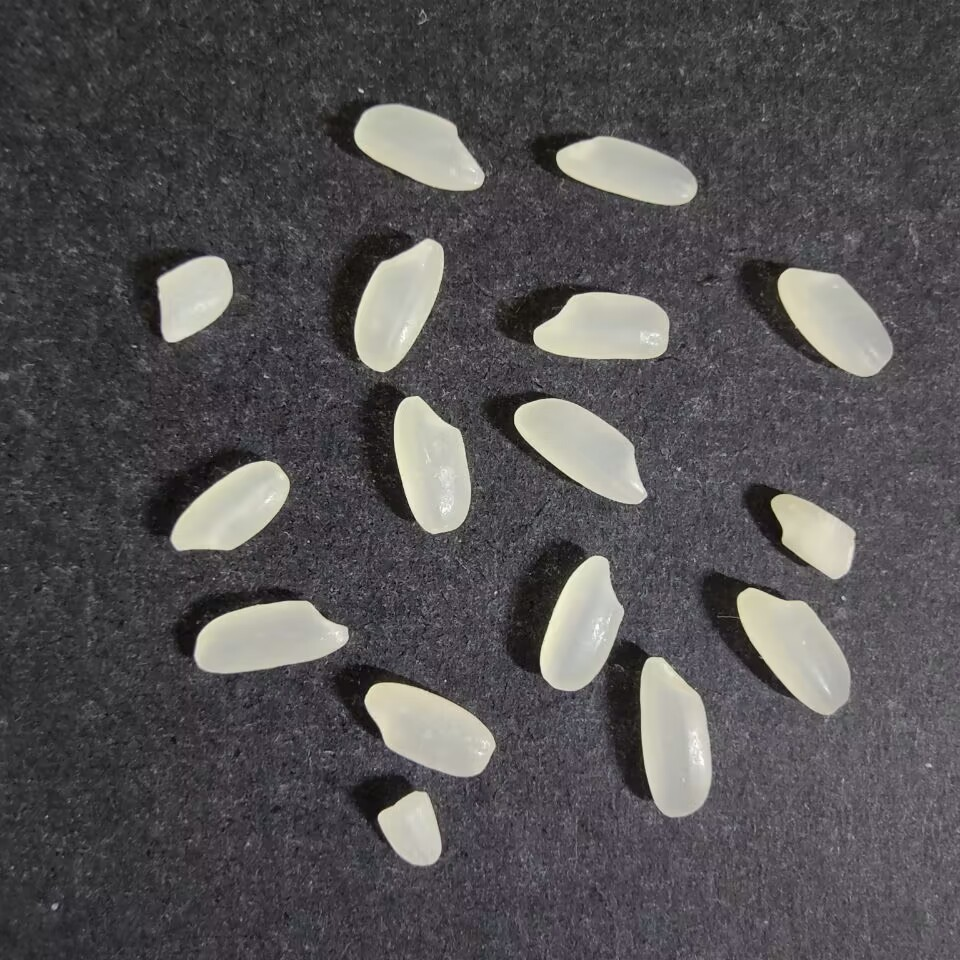broken: (769, 492, 856, 579), (156, 255, 233, 342), (377, 790, 441, 866)
rice: (736, 586, 851, 716), (513, 397, 647, 505), (776, 266, 894, 377), (363, 681, 495, 778), (353, 238, 444, 373), (638, 655, 712, 818), (352, 103, 485, 192), (193, 599, 349, 674), (539, 555, 624, 692), (170, 459, 290, 552), (392, 395, 471, 534), (555, 136, 698, 206), (531, 290, 670, 360)
